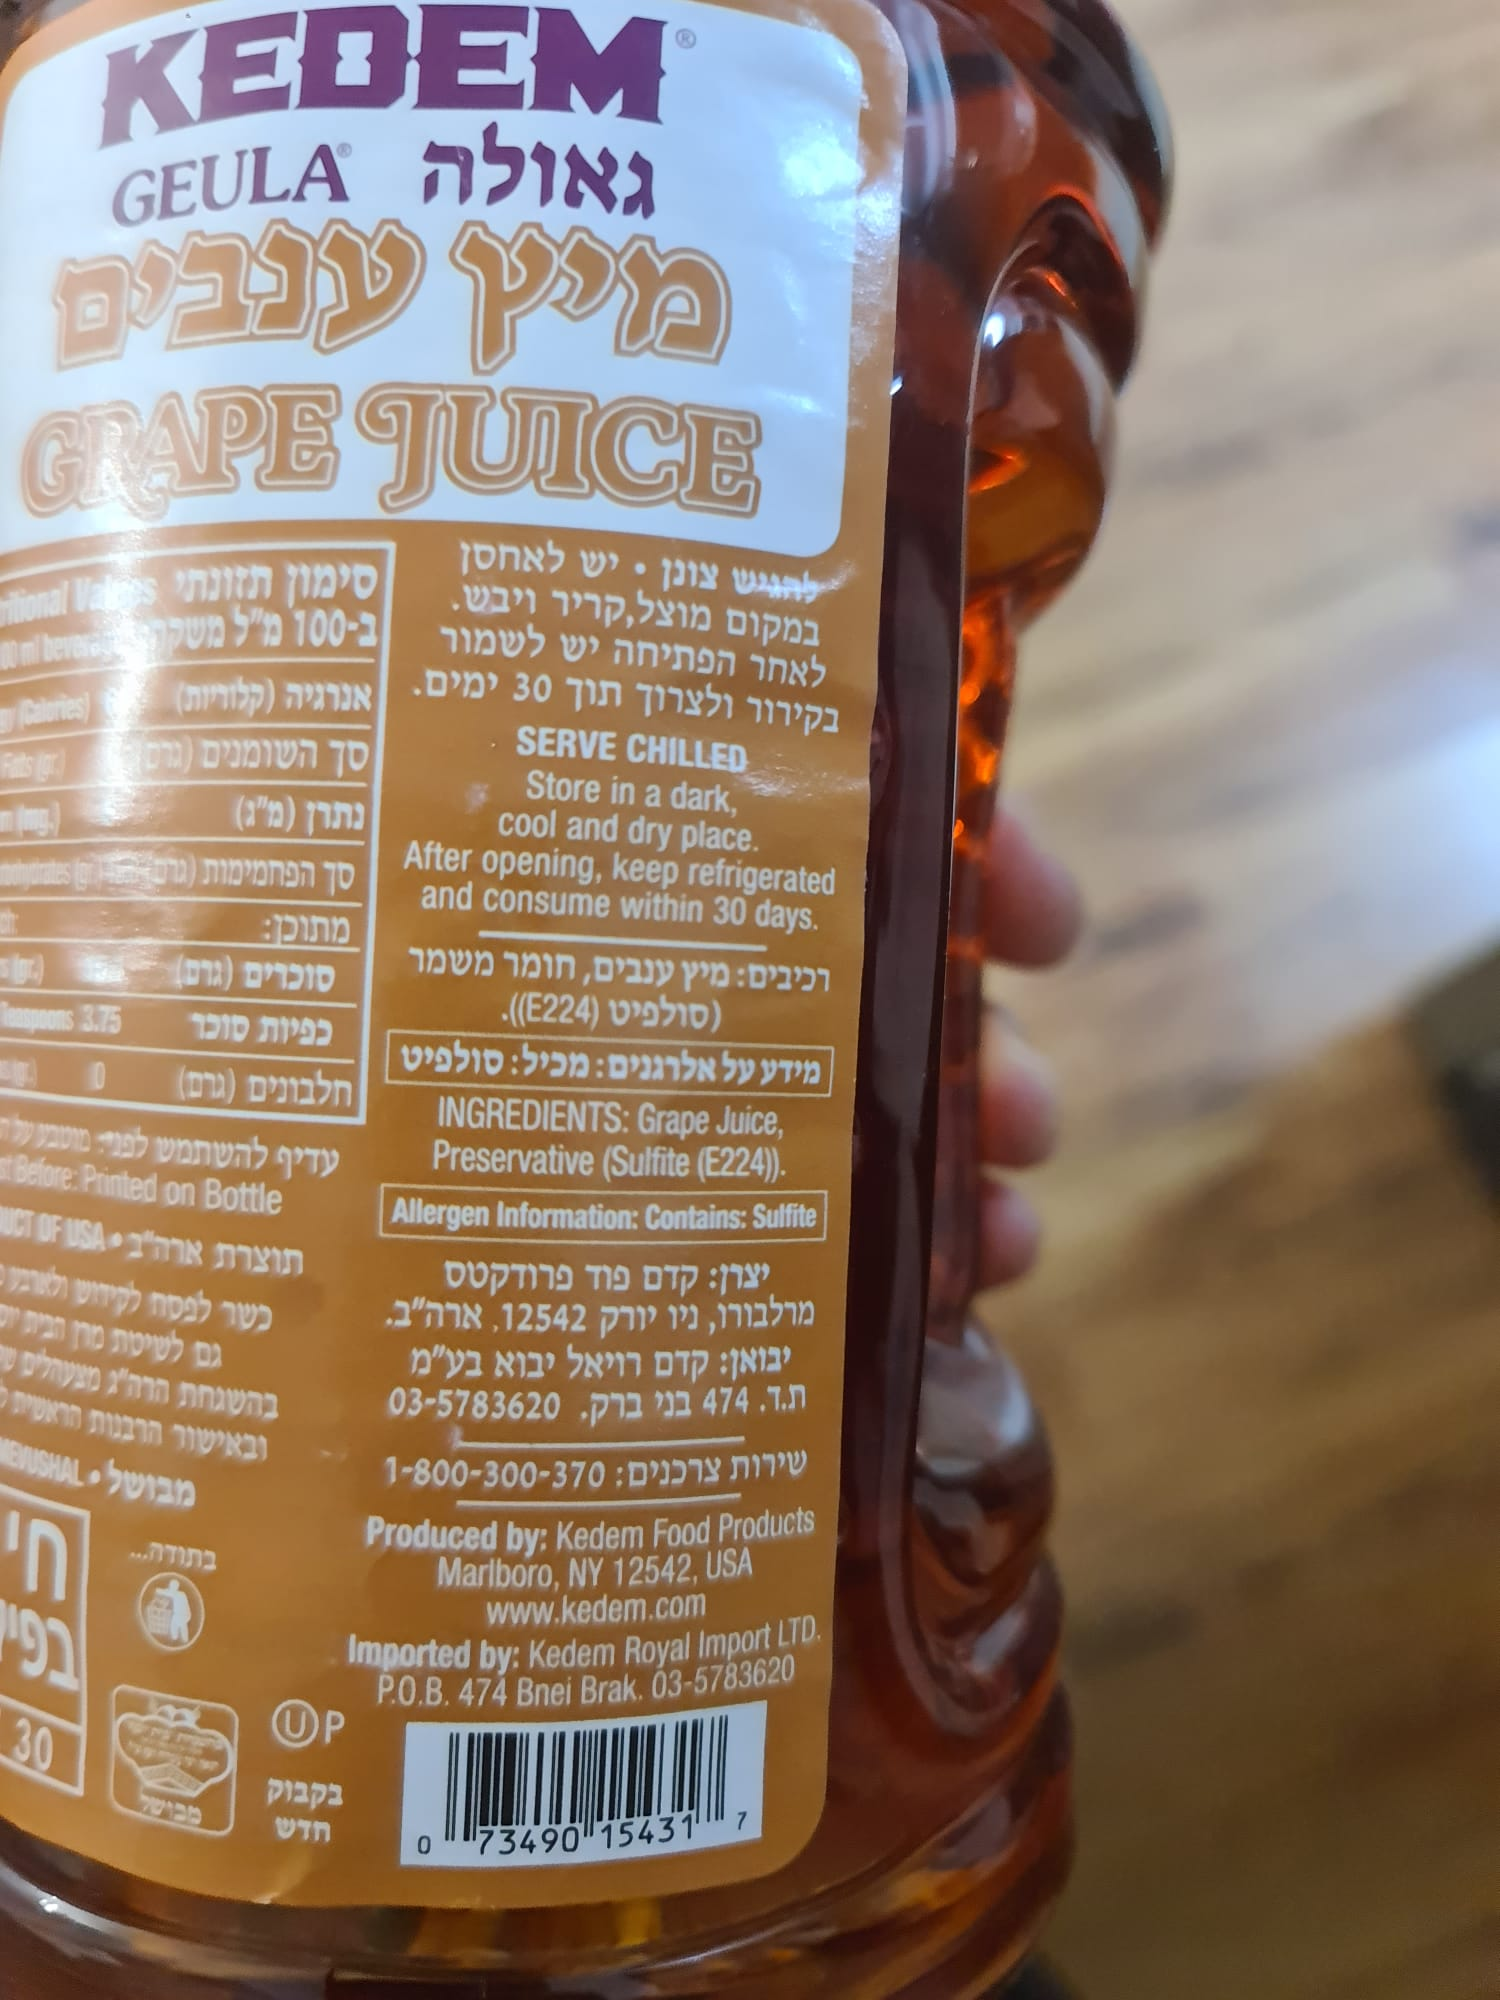l: (410, 1087, 808, 1187)
